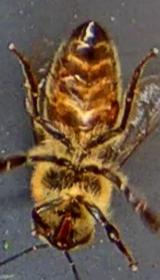varroa_mite: (98, 90, 123, 130)
